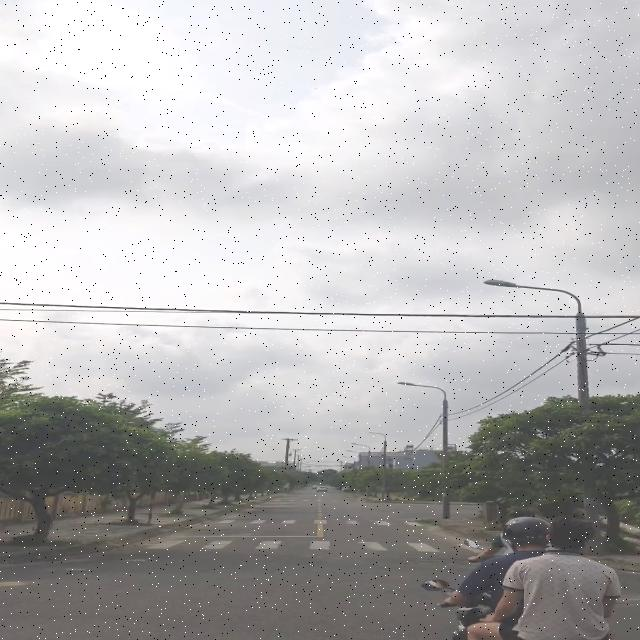helmet: (503, 517, 550, 561)
no_helmet: (553, 517, 600, 556)
